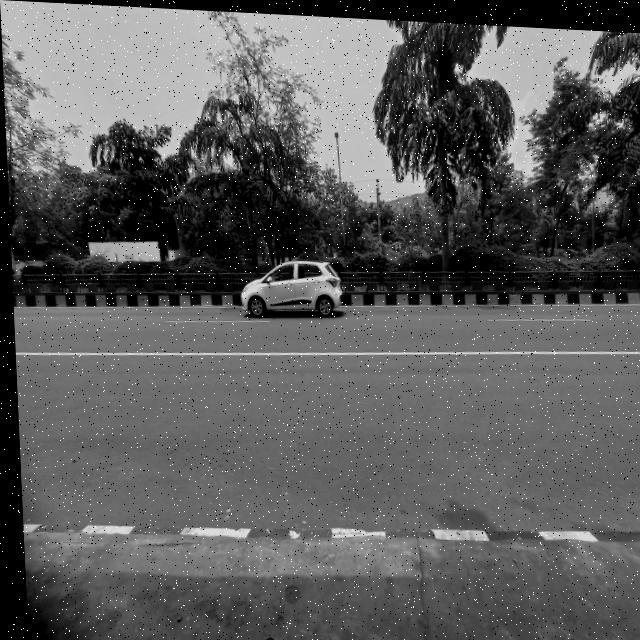car: (228, 247, 345, 324)
